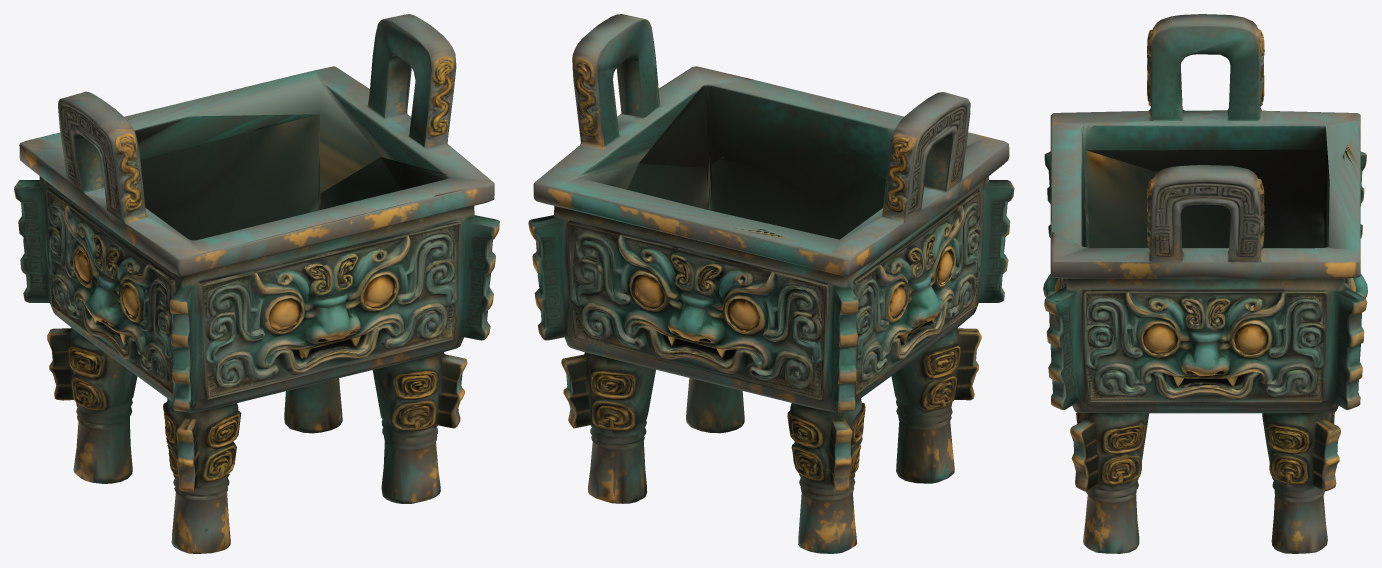
Rendered from ding1.glb.
The picture shows the model from 3 angles, left to right: view 1: azimuth 30°, elevation 25°; view 2: azimuth 150°, elevation 25°; view 3: azimuth 270°, elevation 25°; orthographic projection. The views are drawn at different scales.
Parts seen in each view (by area): view 1: node_0; view 2: node_0; view 3: node_0.
Boxes of the visible parts, bbox=[...] form: node_0: bbox=[14, 14, 499, 553]; node_0: bbox=[528, 14, 1014, 553]; node_0: bbox=[1043, 14, 1367, 553].
Bounding box in the file's own units: 0.7911 × 0.9056 × 0.6656.
1 material, 1 textured.
